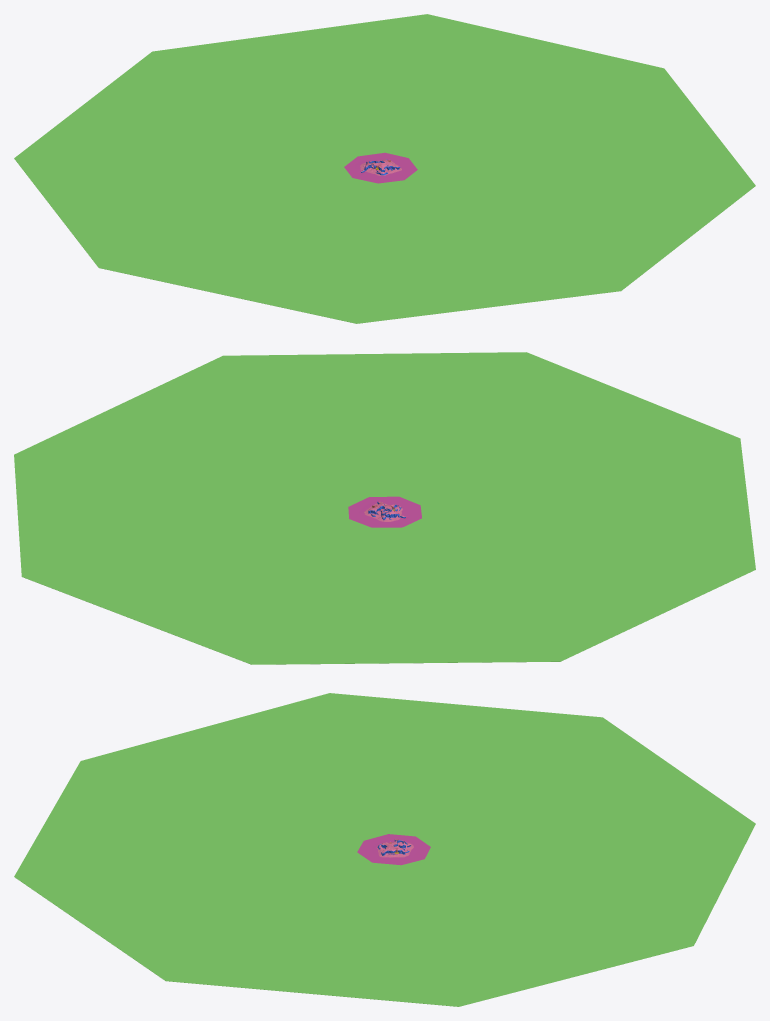
Rendered from level_collision.fbx.
The picture shows the model from 3 angles, top to bottom: view 1: azimuth 30°, elevation 25°; view 2: azimuth 150°, elevation 25°; view 3: azimuth 270°, elevation 25°; orthographic projection. The views are drawn at different scales.
Visible parts, largest first — view 1: level_collision; view 2: level_collision; view 3: level_collision.
Part boxes in pixels (left/top/right/bottom): level_collision: left=14, top=14, right=755, bottom=323; level_collision: left=14, top=352, right=755, bottom=664; level_collision: left=14, top=693, right=755, bottom=1006.
Bounding box in the file's own units: 2.73e+07 × 225862 × 2.73e+07.
